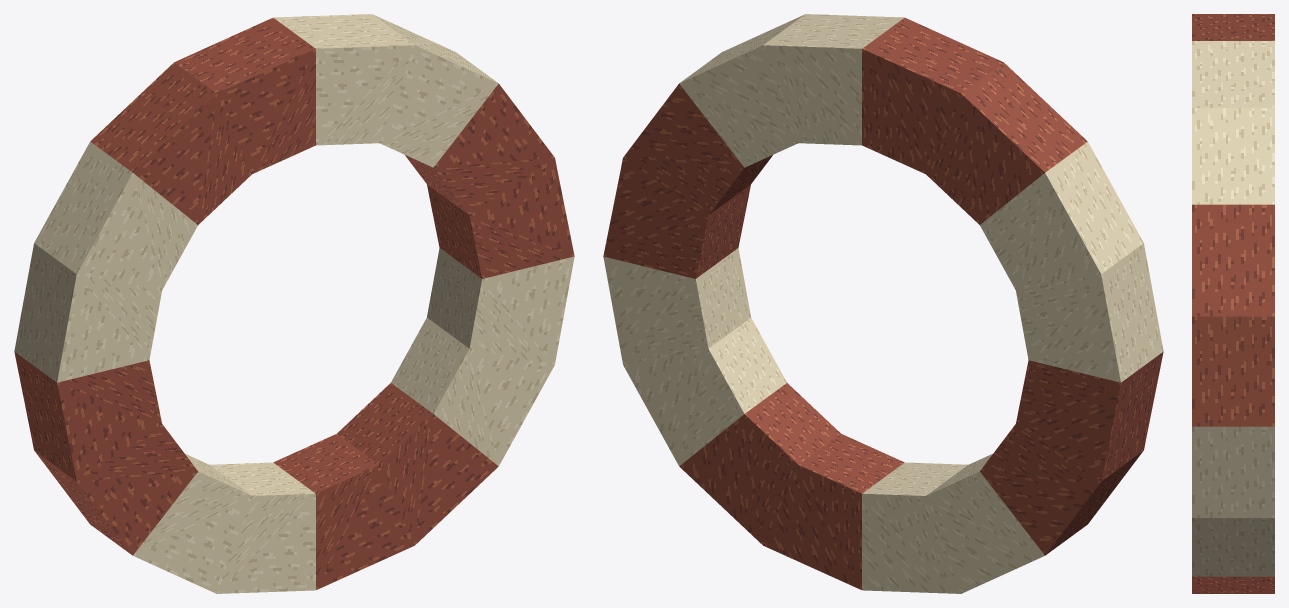
The model's file is life_ring.gltf.
The picture shows the model from 3 angles, left to right: view 1: azimuth 30°, elevation 25°; view 2: azimuth 150°, elevation 25°; view 3: azimuth 270°, elevation 25°; orthographic projection. The views are drawn at different scales.
Parts seen in each view (by area): view 1: ring_segment (×16); view 2: ring_segment (×16); view 3: ring_segment (×8).
Boxes of the visible parts, x1=… form: ring_segment (×16): x1=14, y1=14, x2=574, y2=593; ring_segment (×16): x1=603, y1=14, x2=1163, y2=593; ring_segment (×8): x1=1192, y1=14, x2=1274, y2=593.
Bounding box in the file's own units: 0.875 × 0.875 × 0.125.
2 materials, 2 textured.
